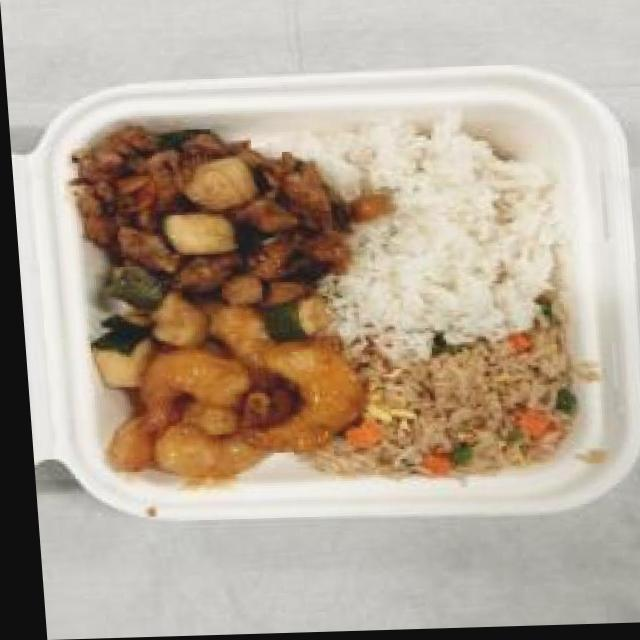Fried Rice: (340, 330, 592, 491)
Honey Walnut Shrimp: (82, 287, 367, 493)
Kung Pao Chicken: (60, 116, 396, 314)
White Steamed Rice: (331, 117, 573, 337)
